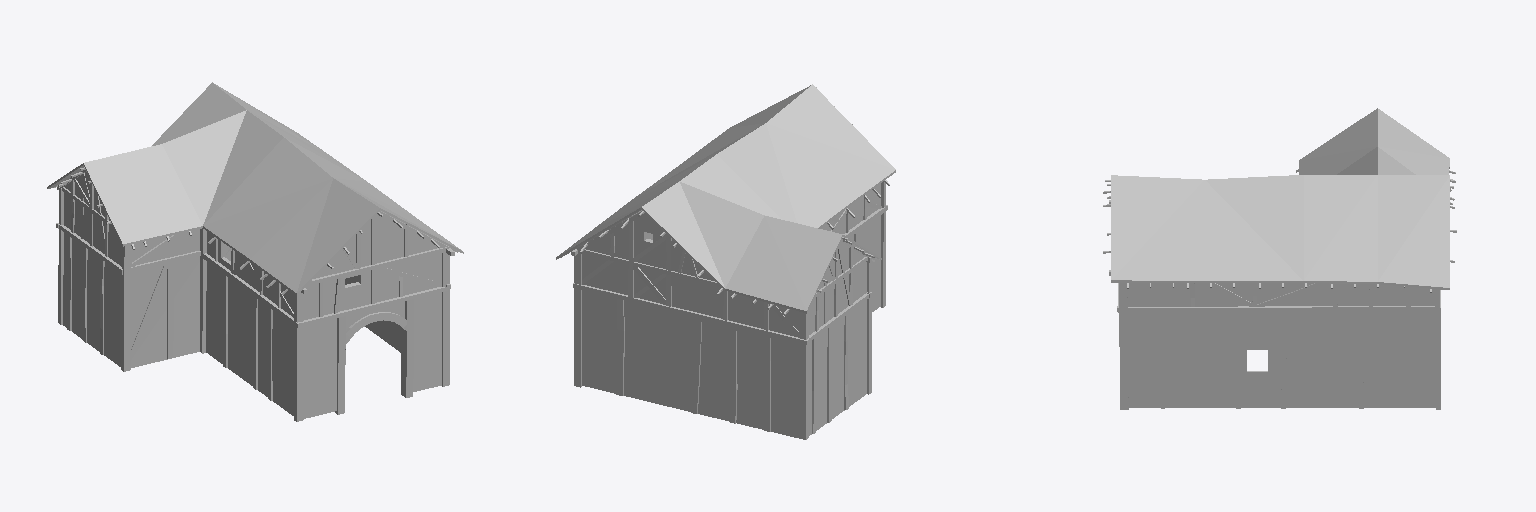
The model's file is carpenter.obj.
3 views of the same model, side by side, from view 1: azimuth 30°, elevation 25°; view 2: azimuth 150°, elevation 25°; view 3: azimuth 270°, elevation 25° (orthographic).
Visible parts, largest first — view 1: Roof_Cube.001, Wood_Cube.001, Base_02_Cube.001, Base_03_Cube.001, Base_04_Cube.001_Base_04.1_Cube.001, Base_01_Cube.001; view 2: Roof_Cube.001, Base_04_Cube.001_Base_04.1_Cube.001, Wood_Cube.001, Base_02_Cube.001; view 3: Roof_Cube.001, Base_01_Cube.001, Wood_Cube.001.
Boxes of the visible parts, x1,y1,x2,y2 form: Roof_Cube.001: [47, 82, 463, 295]; Wood_Cube.001: [56, 167, 457, 421]; Base_02_Cube.001: [131, 229, 293, 415]; Base_03_Cube.001: [304, 214, 441, 418]; Base_04_Cube.001_Base_04.1_Cube.001: [63, 172, 427, 366]; Base_01_Cube.001: [345, 224, 406, 352]; Roof_Cube.001: [556, 84, 895, 313]; Base_04_Cube.001_Base_04.1_Cube.001: [578, 214, 866, 437]; Wood_Cube.001: [568, 87, 889, 439]; Base_02_Cube.001: [820, 184, 880, 311]; Roof_Cube.001: [1111, 108, 1449, 289]; Base_01_Cube.001: [1127, 283, 1435, 407]; Wood_Cube.001: [1103, 169, 1456, 409].
Size of the model in its own units: 10.03 by 7.61 by 12.09.